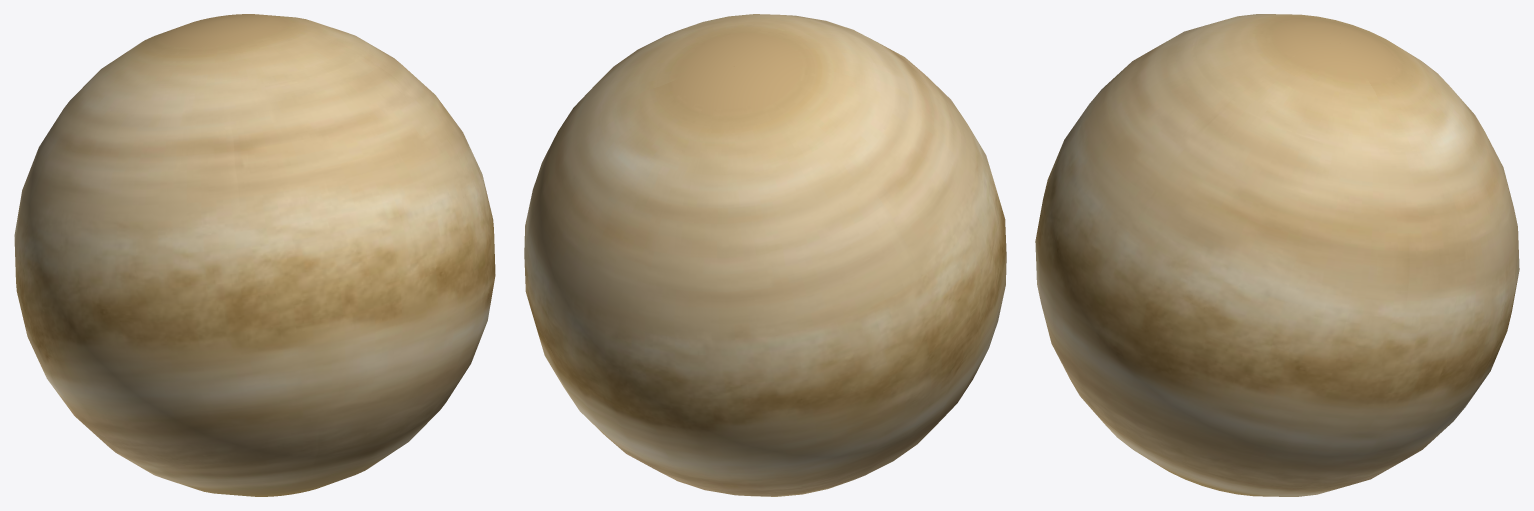
The model's file is venus.obj.
3 renders of one model, left to right at view 1: azimuth 30°, elevation 25°; view 2: azimuth 150°, elevation 25°; view 3: azimuth 270°, elevation 25°, orthographic.
Visible parts, largest first — view 1: Clouds_Mesh; view 2: Clouds_Mesh; view 3: Clouds_Mesh.
Boxes of the visible parts, box(x1,y1,x2,y2) form: Clouds_Mesh: box(14, 14, 495, 496); Clouds_Mesh: box(524, 14, 1006, 496); Clouds_Mesh: box(1035, 14, 1519, 496).
Size of the model in its own units: 3.32 by 3.32 by 3.32.
Materials: 2 (2 with a texture image).
